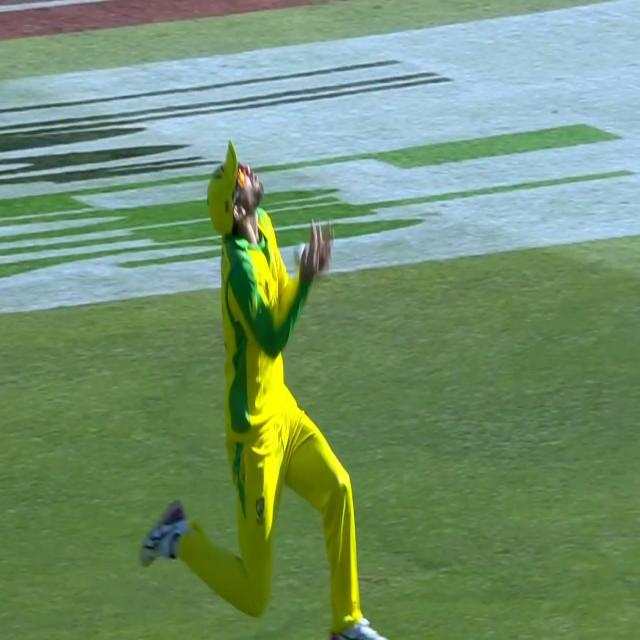ball: (290, 236, 306, 269)
